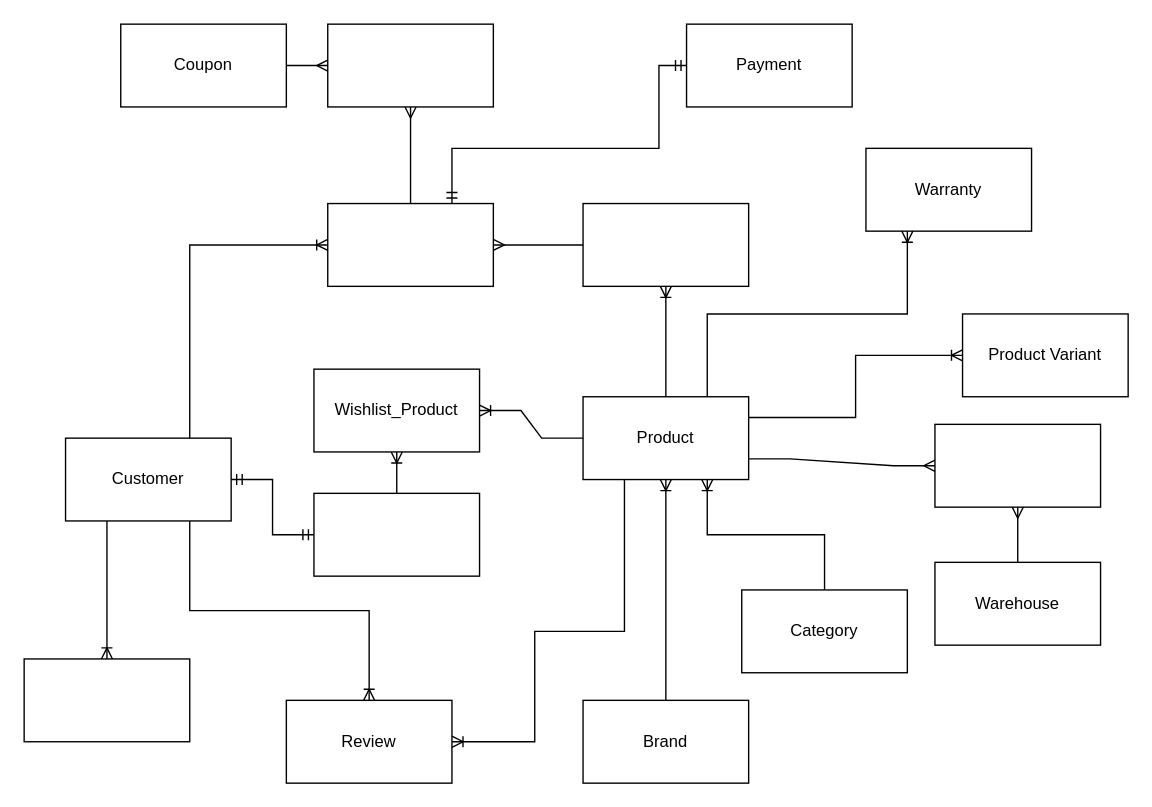
Some shapes in this 1152 by 807 pixel diagram are drawn without their labels. The shapes that lost their labels are listed below. From the top down, each one's centre as x and y in pixels, then its label:
(x=409, y=65): Order_Coupon
(x=409, y=244): Order
(x=665, y=244): Order_Product
(x=1017, y=465): Warehouse_Product
(x=396, y=534): Wishlist
(x=106, y=700): Address
